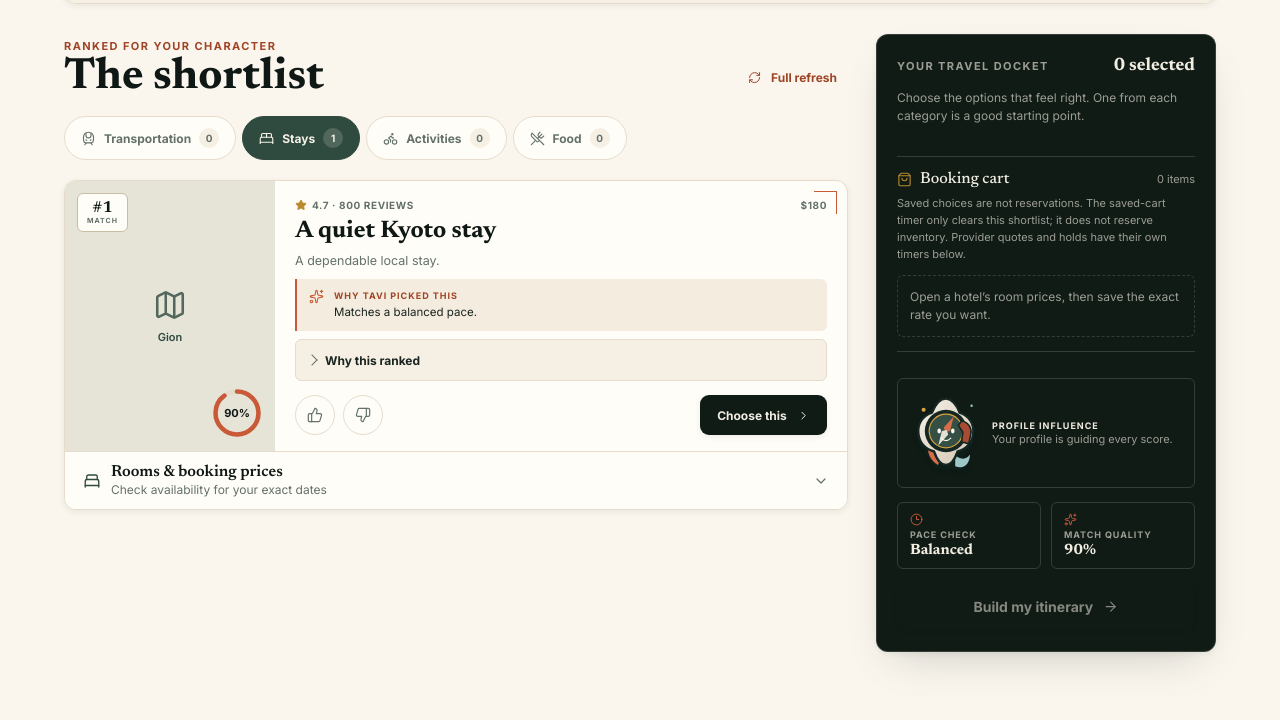
it: discloses score meters and matched taste tags under why-this-ranked
(page scrolled)
Click the heading "Why this ranked": click(373, 360) [325, 353, 420, 368]
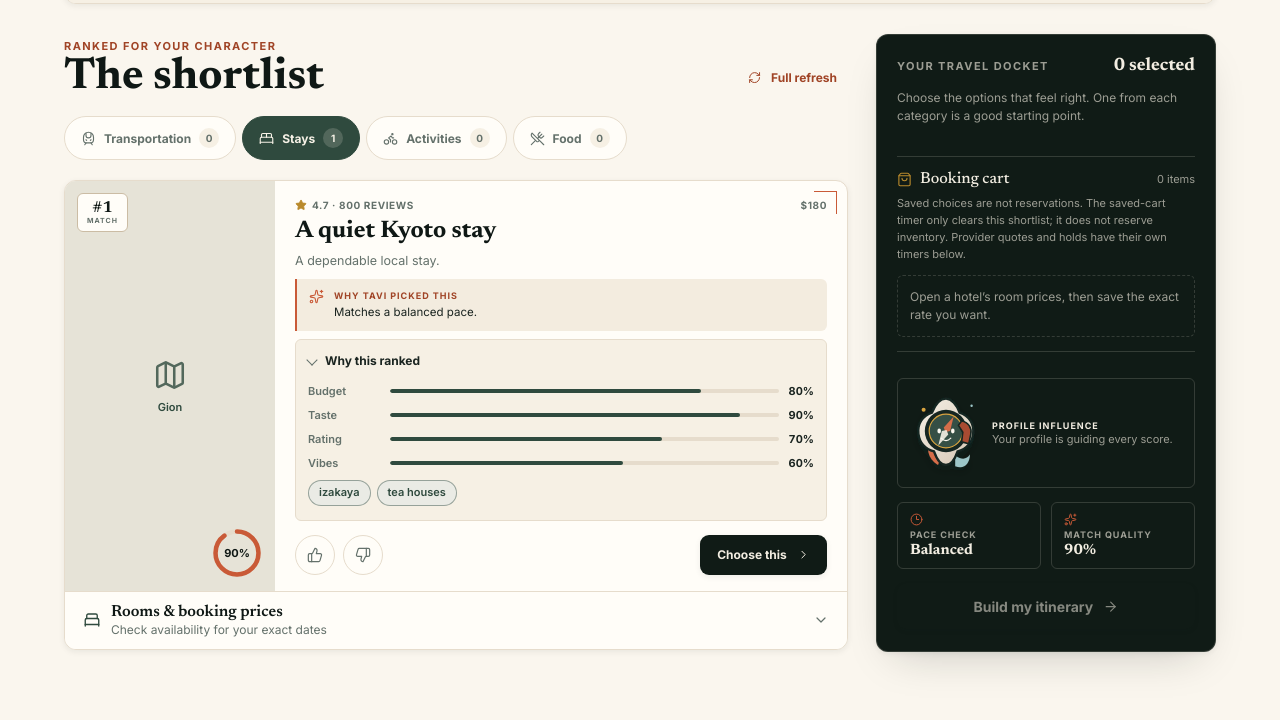
Check: the element named "Rating" is shown, box [390, 437, 779, 441]
Check: the element named "Vibes" is shown, box [390, 461, 779, 465]
Check: the text "izakaya" is shown, box [308, 480, 370, 506]
